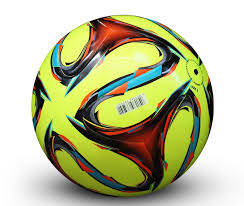top: (20, 12, 216, 199)
